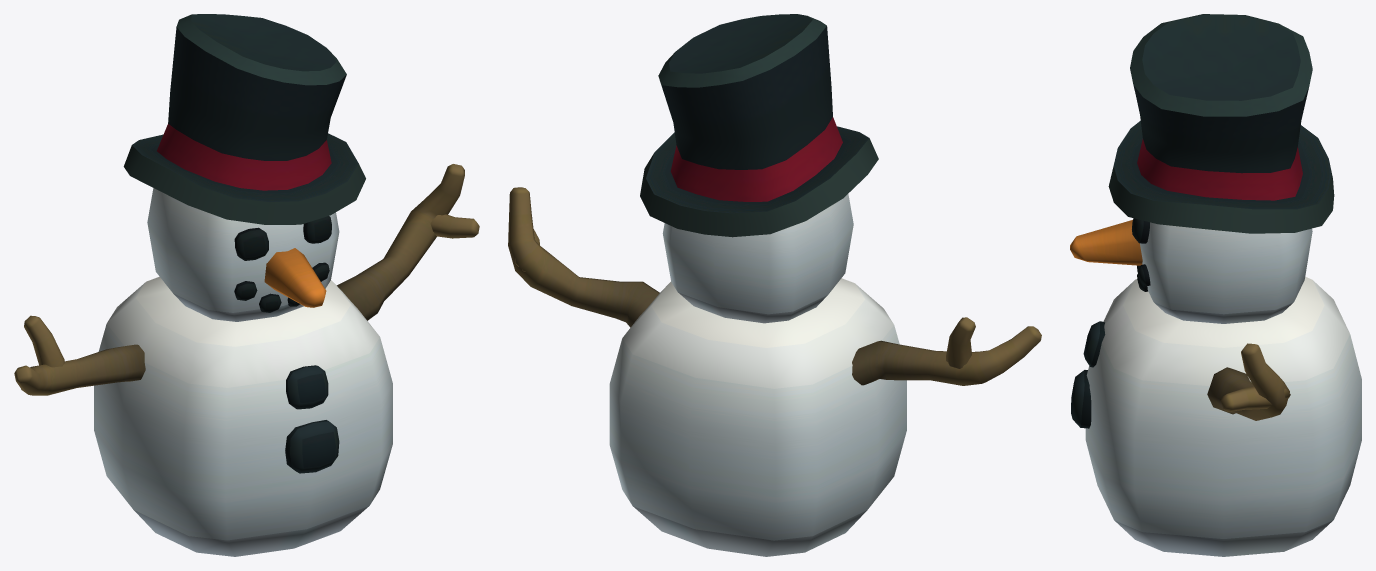
Rendered from snowman.fbx.
The picture shows the model from 3 angles, left to right: view 1: azimuth 30°, elevation 25°; view 2: azimuth 150°, elevation 25°; view 3: azimuth 270°, elevation 25°; orthographic projection.
Visible parts, largest first — view 1: snowman_1_LOD0; view 2: snowman_1_LOD0; view 3: snowman_1_LOD0.
Part boxes in pixels (x1,y1,x2,y2): snowman_1_LOD0: [14, 14, 479, 556]; snowman_1_LOD0: [508, 14, 1041, 556]; snowman_1_LOD0: [1070, 14, 1361, 556].
Bounding box in the file's own units: 167 × 163 × 85.94.
